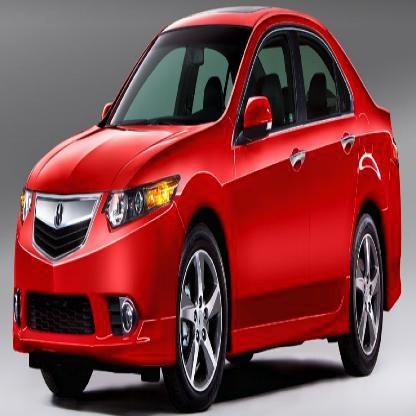Vehicle: (14, 9, 401, 413)
